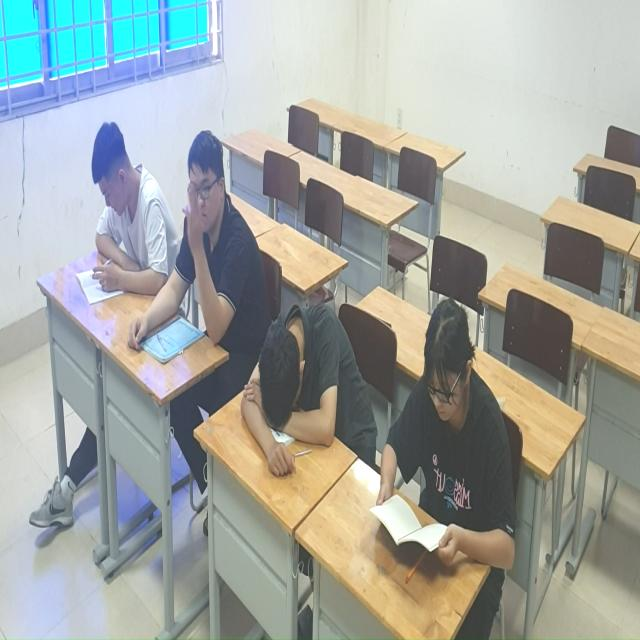raise_hand: (170, 129, 254, 352)
read: (377, 300, 515, 577), (70, 122, 167, 310)
sleep: (238, 295, 378, 480)
